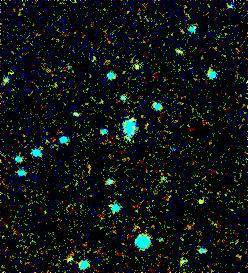star: (185, 185, 215, 215)
